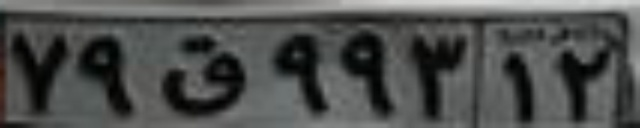1: (497, 51, 536, 121)
2: (553, 45, 611, 122)
3: (406, 36, 462, 116)
7: (8, 30, 66, 112)
9: (335, 31, 394, 114), (272, 33, 325, 113), (76, 34, 127, 116)
ghaf: (159, 35, 245, 116)
